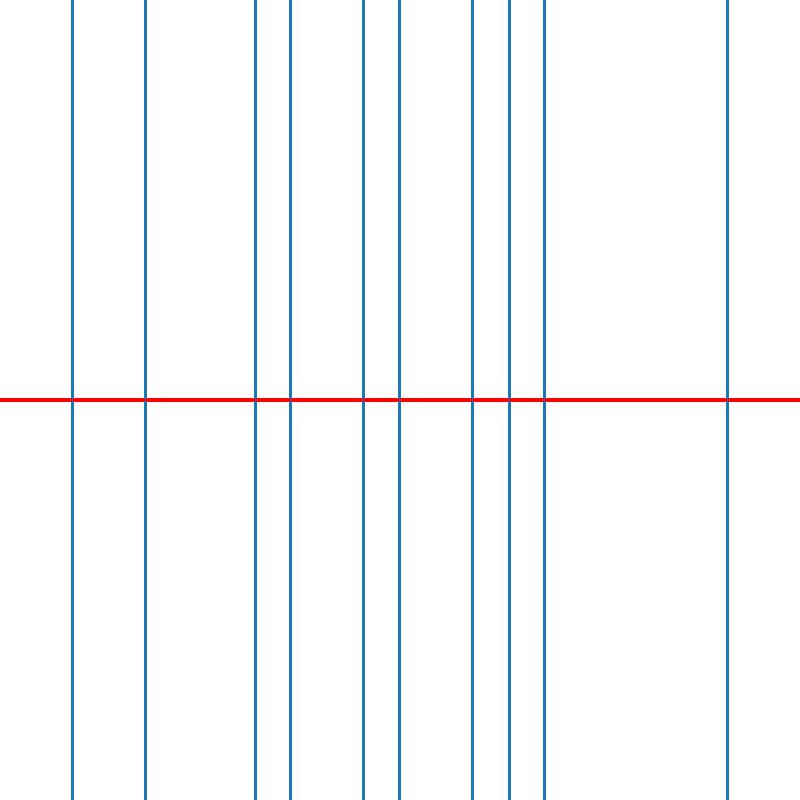root: (541, 396, 549, 404), (141, 396, 149, 404), (250, 396, 258, 404), (469, 396, 476, 404), (723, 396, 730, 404), (287, 396, 294, 404), (360, 396, 367, 404), (69, 396, 76, 404), (505, 396, 512, 404), (396, 396, 403, 404)
